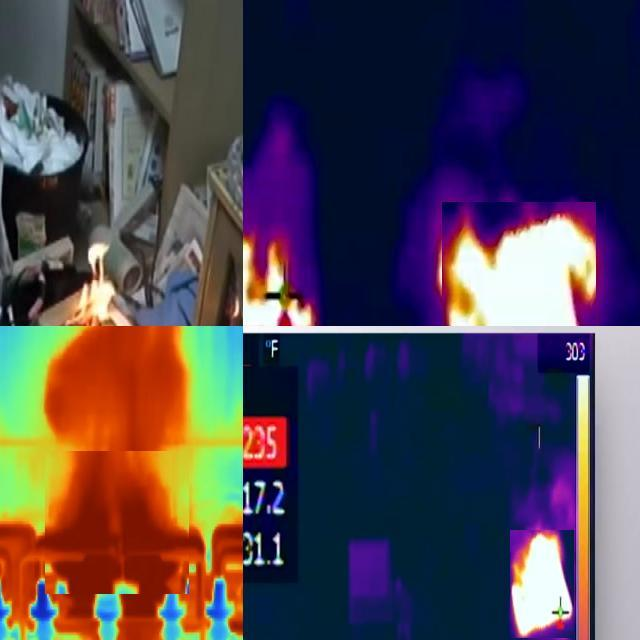fire: (45, 451, 189, 594), (442, 202, 596, 327), (244, 219, 315, 327), (511, 530, 575, 638)
